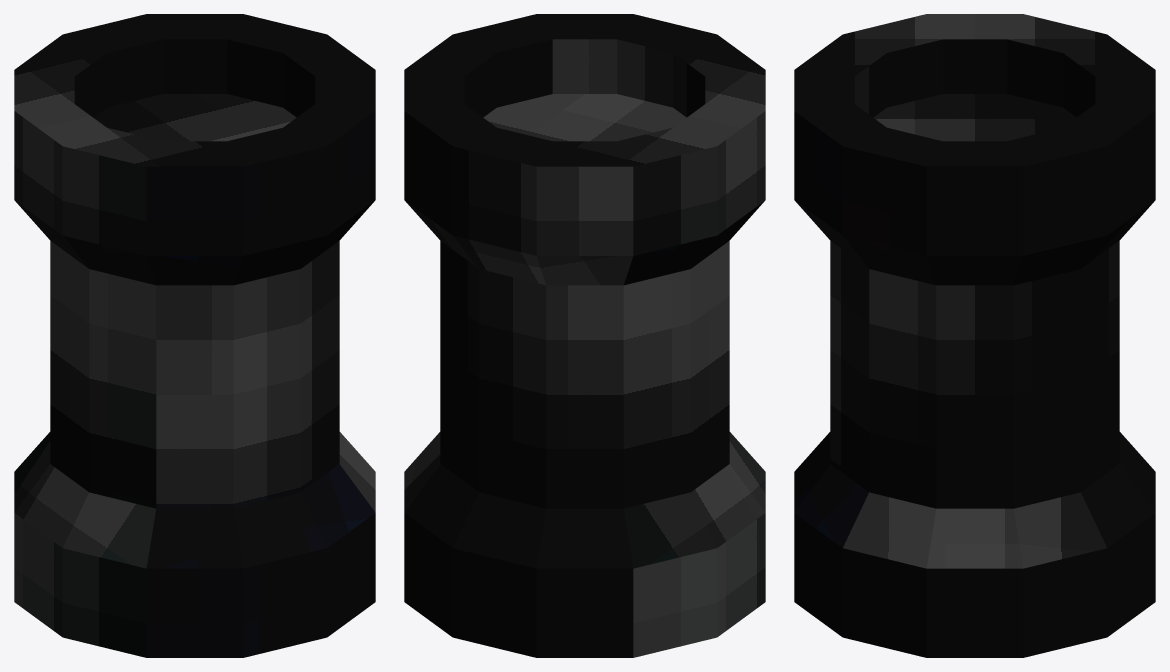
Rendered from black_chess_rook.glb.
The picture shows the model from 3 angles, left to right: view 1: azimuth 30°, elevation 25°; view 2: azimuth 150°, elevation 25°; view 3: azimuth 270°, elevation 25°; orthographic projection.
Parts seen in each view (by area): view 1: cylinder; view 2: cylinder; view 3: cylinder.
Part boxes in pixels (left/top/right/bottom): cylinder: left=14, top=14, right=375, bottom=657; cylinder: left=404, top=14, right=765, bottom=657; cylinder: left=794, top=14, right=1155, bottom=657.
Bounding box in the file's own units: 0.375 × 0.5625 × 0.375.
Materials: 1 (1 with a texture image).
